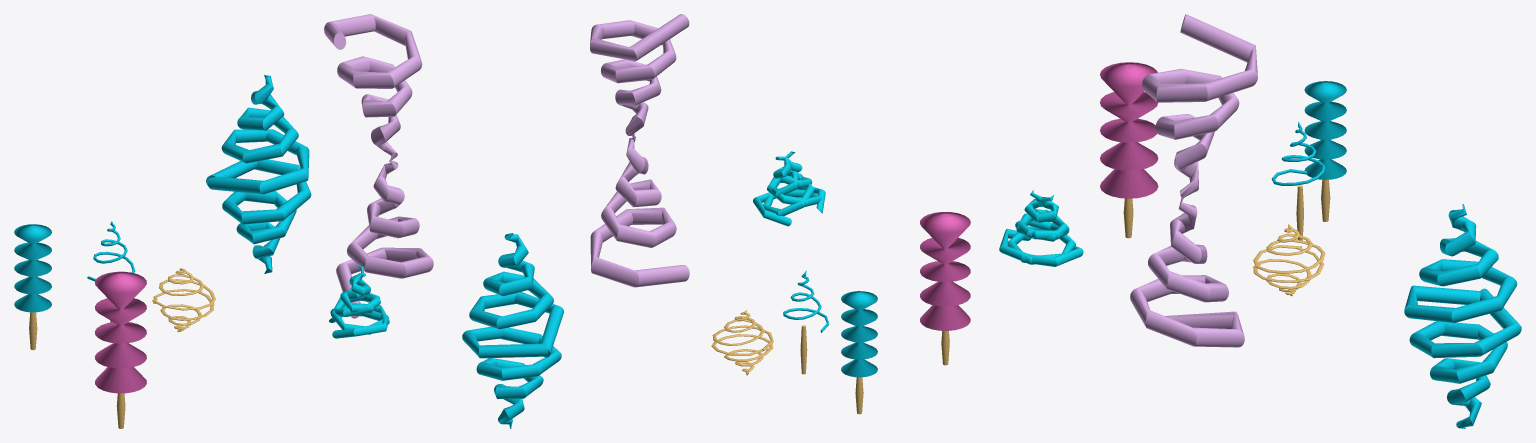
The model's file is rococotrees.fbx.
3 renders of one model, left to right at view 1: azimuth 30°, elevation 25°; view 2: azimuth 150°, elevation 25°; view 3: azimuth 270°, elevation 25°, orthographic. The views are drawn at different scales.
Parts seen in each view (by area): view 1: pCylinder15, pCylinder11, pCylinder6, pCylinder14, pCylinder13, pCylinder8, pCylinder5, pCylinder16, pCone2, pCone4, pCone3; view 2: pCylinder14, pCylinder15, pCylinder11, pCylinder13, pCylinder6, pCylinder8, pCylinder16, pCylinder5, pCone4, pCone2, pCone3; view 3: pCylinder15, pCylinder14, pCylinder11, pCylinder6, pCylinder13, pCylinder8, pCylinder5, pCylinder16, pCone2, pCone4, pCone3.
Part boxes in pixels (<box>): pCylinder15: <box>324,14,422,161</box>; pCylinder11: <box>95,271,146,393</box>; pCylinder6: <box>208,74,309,194</box>; pCylinder14: <box>336,160,433,318</box>; pCylinder13: <box>206,159,311,273</box>; pCylinder8: <box>14,224,51,312</box>; pCylinder5: <box>330,266,388,338</box>; pCylinder16: <box>329,272,389,334</box>; pCone2: <box>152,268,215,310</box>; pCone4: <box>153,289,214,332</box>; pCone3: <box>87,221,135,281</box>; pCylinder14: <box>590,136,689,287</box>; pCylinder15: <box>590,14,689,138</box>; pCylinder11: <box>920,212,970,330</box>; pCylinder13: <box>462,326,561,428</box>; pCylinder6: <box>469,233,563,357</box>; pCylinder8: <box>841,291,877,377</box>; pCylinder16: <box>753,151,821,226</box>; pCylinder5: <box>763,156,825,215</box>; pCone4: <box>711,334,773,375</box>; pCone2: <box>712,310,773,350</box>; pCone3: <box>783,270,829,332</box>; pCylinder15: <box>1142,14,1257,199</box>; pCylinder14: <box>1130,198,1244,347</box>; pCylinder11: <box>1100,62,1158,198</box>; pCylinder6: <box>1404,204,1517,322</box>; pCylinder13: <box>1409,288,1521,428</box>; pCylinder8: <box>1304,81,1346,179</box>; pCylinder5: <box>999,195,1075,264</box>; pCylinder16: <box>1008,190,1083,266</box>; pCone2: <box>1253,224,1325,273</box>; pCone4: <box>1253,248,1323,296</box>; pCone3: <box>1271,121,1325,185</box>.
Bounding box in the file's own units: 63.32 × 58.18 × 71.29.
